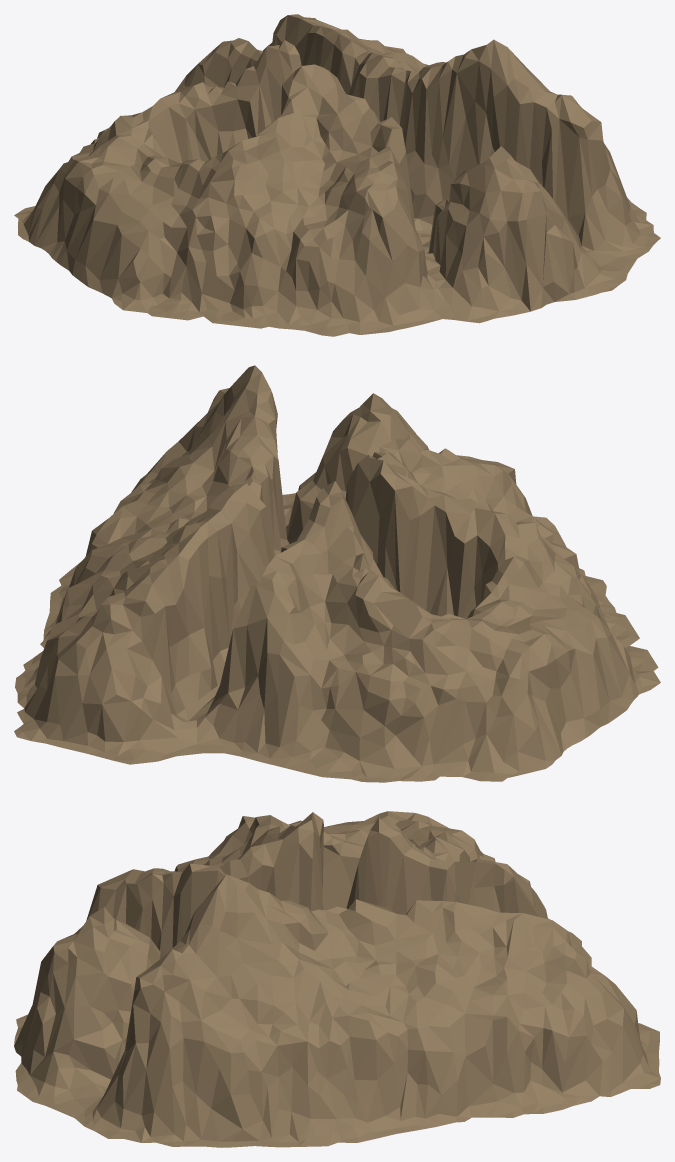
The model's file is LargeTerrain06.fbx.
3 renders of one model, top to bottom at view 1: azimuth 30°, elevation 25°; view 2: azimuth 150°, elevation 25°; view 3: azimuth 270°, elevation 25°, orthographic. The views are drawn at different scales.
Visible parts, largest first — view 1: LargeTerrain06; view 2: LargeTerrain06; view 3: LargeTerrain06.
Boxes of the visible parts, bbox=[...] form: LargeTerrain06: bbox=[14, 14, 660, 336]; LargeTerrain06: bbox=[14, 365, 660, 782]; LargeTerrain06: bbox=[14, 811, 660, 1147].
Size of the model in its own units: 87.93 by 31.74 by 90.51.
